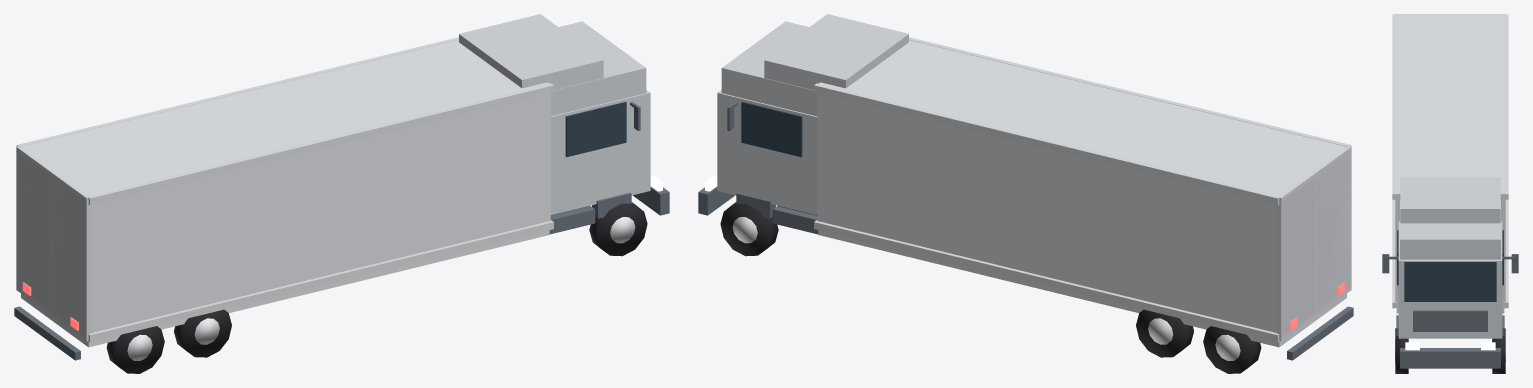
Rendered from truck_lite.glb.
3 views of the same model, side by side, from view 1: azimuth 30°, elevation 25°; view 2: azimuth 150°, elevation 25°; view 3: azimuth 270°, elevation 25° (orthographic). The views are drawn at different scales.
Visible parts, largest first — view 1: Truck01_Box, Truck01_Cab, Truck01_Trim, Truck01_RearDoors, Truck01_Wheels, Truck01_Glass, Truck01_Details, Truck01_Hubs, Truck01_Chassis, Truck01_Bumper; view 2: Truck01_Box, Truck01_Cab, Truck01_Trim, Truck01_RearDoors, Truck01_Wheels, Truck01_Glass, Truck01_Details, Truck01_Hubs, Truck01_Chassis, Truck01_Bumper; view 3: Truck01_Box, Truck01_Cab, Truck01_Glass, Truck01_Trim, Truck01_Details, Truck01_Bumper, Truck01_Wheels, Truck01_Lights.
Boxes of the visible parts, x1,y1,x2,y2 form: Truck01_Box: (21, 40, 550, 347); Truck01_Cab: (459, 14, 650, 214); Truck01_Trim: (16, 37, 553, 342); Truck01_RearDoors: (17, 152, 85, 336); Truck01_Wheels: (106, 202, 647, 373); Truck01_Glass: (565, 101, 626, 157); Truck01_Details: (14, 102, 640, 360); Truck01_Hubs: (127, 217, 635, 360); Truck01_Chassis: (549, 206, 595, 234); Truck01_Bumper: (633, 186, 669, 215); Truck01_Box: (817, 40, 1346, 347); Truck01_Cab: (717, 14, 908, 214); Truck01_Trim: (814, 37, 1351, 342); Truck01_RearDoors: (1282, 152, 1350, 336); Truck01_Wheels: (720, 202, 1261, 373); Truck01_Glass: (741, 101, 802, 157); Truck01_Details: (727, 102, 1353, 360); Truck01_Hubs: (732, 217, 1240, 360); Truck01_Chassis: (772, 206, 818, 234); Truck01_Bumper: (698, 186, 734, 215); Truck01_Box: (1395, 15, 1505, 313); Truck01_Cab: (1398, 177, 1502, 338); Truck01_Glass: (1397, 230, 1503, 301); Truck01_Trim: (1392, 14, 1508, 308); Truck01_Details: (1382, 254, 1518, 336); Truck01_Bumper: (1400, 348, 1500, 368); Truck01_Wheels: (1395, 328, 1505, 373); Truck01_Lights: (1405, 342, 1495, 350).
Size of the model in its own units: 12.35 by 3.93 by 3.1.
